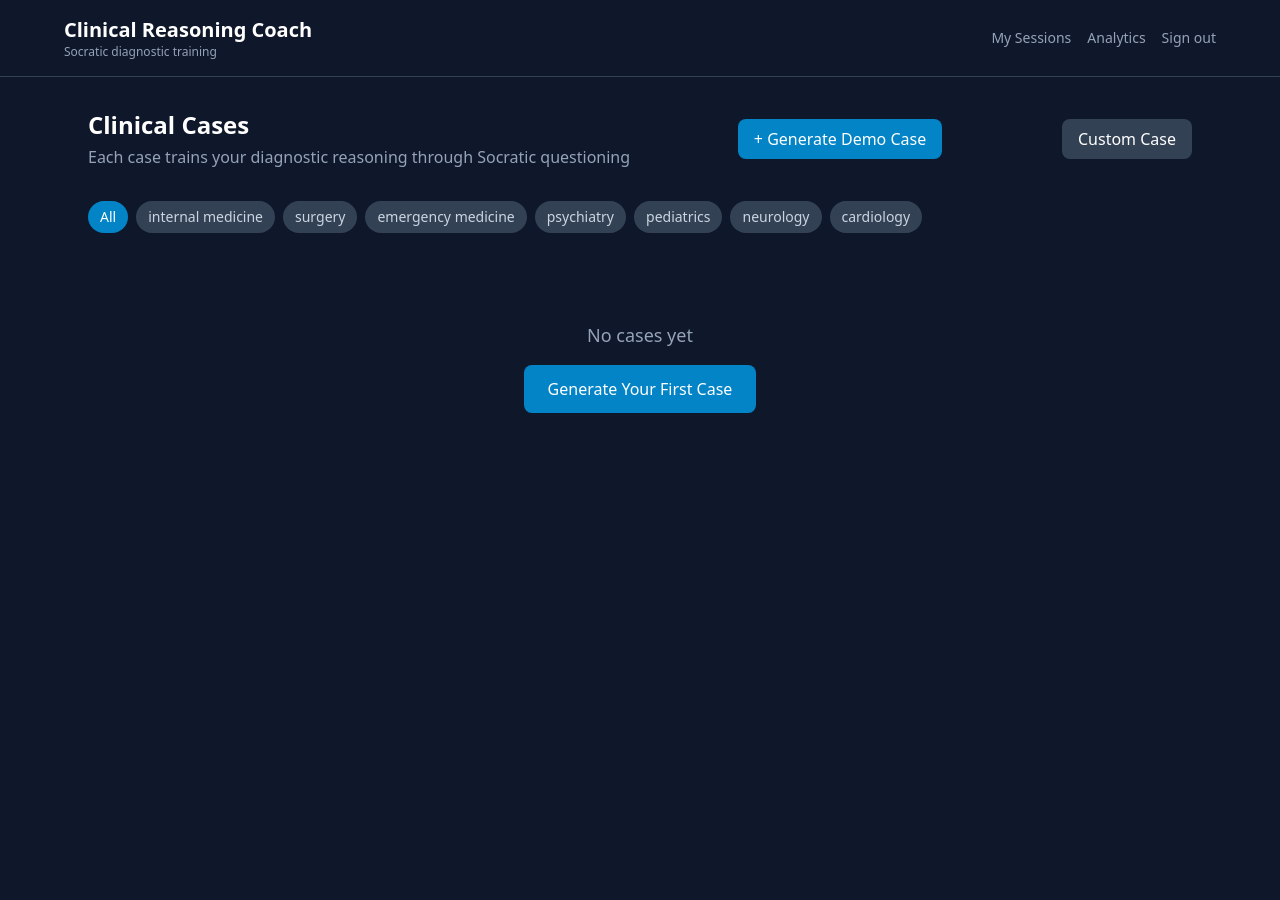
Test: CasesPage › shows structured quality gate feedback when custom generation is blocked
Click the button "Custom Case" at (1127, 139), box [1062,119,1192,159]
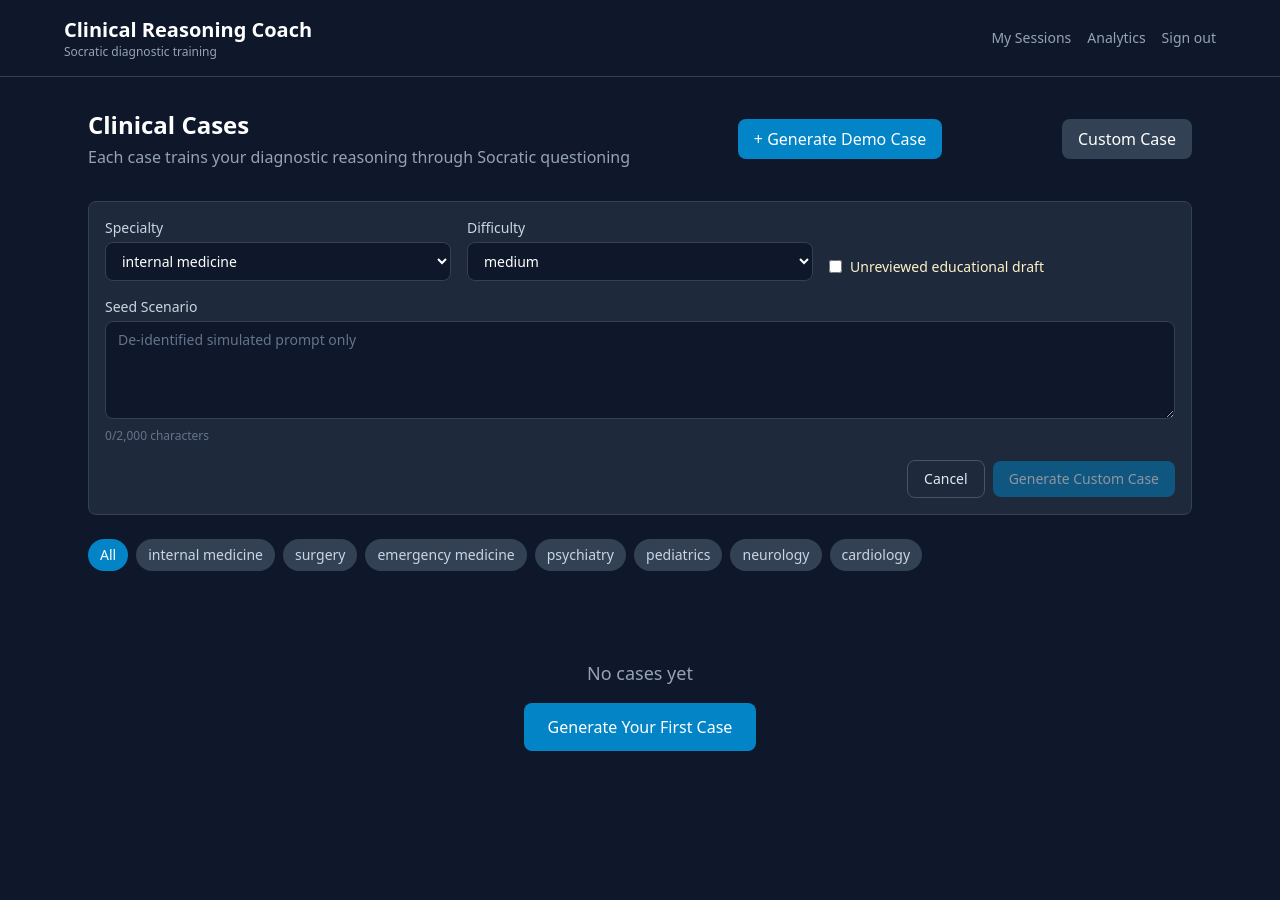
Type "Simulated patient with chest pain." into the text box labelled "Seed Scenario" at (640, 370), box [105,321,1175,419]
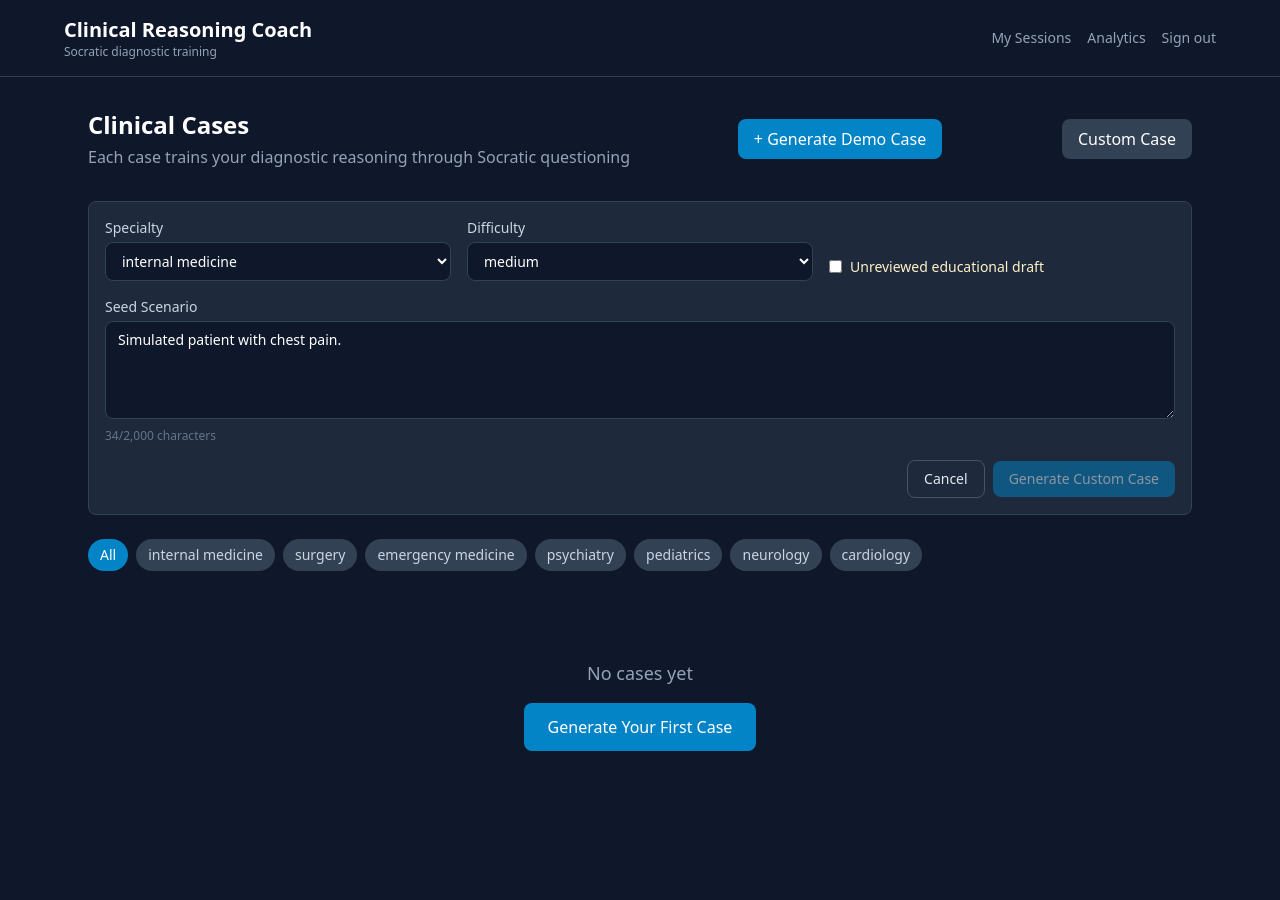
Click the checkbox labelled "Unreviewed educational draft" at (836, 266), box [829,260,842,273]
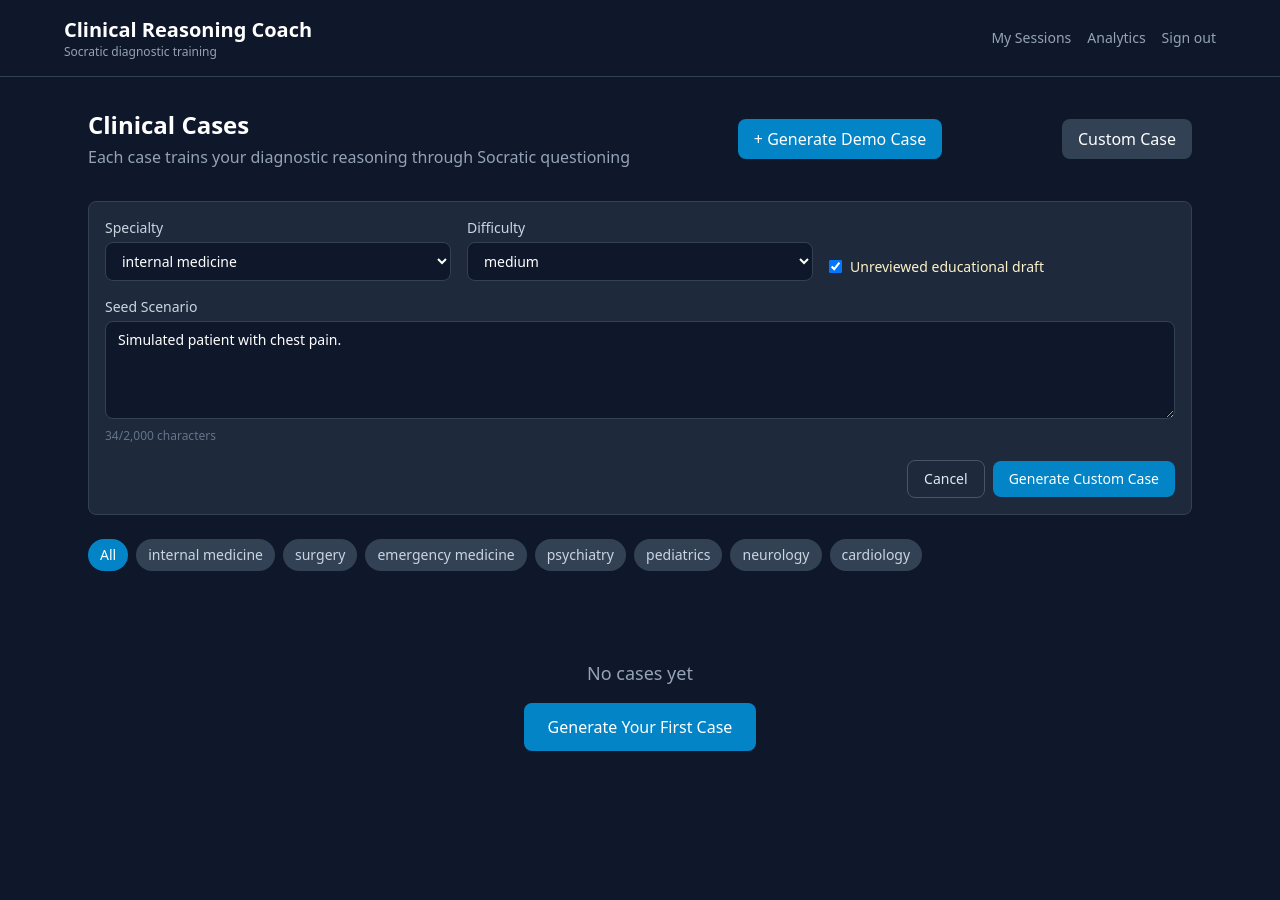
Click the button "Generate Custom Case" at (1084, 479), box [993,461,1175,497]
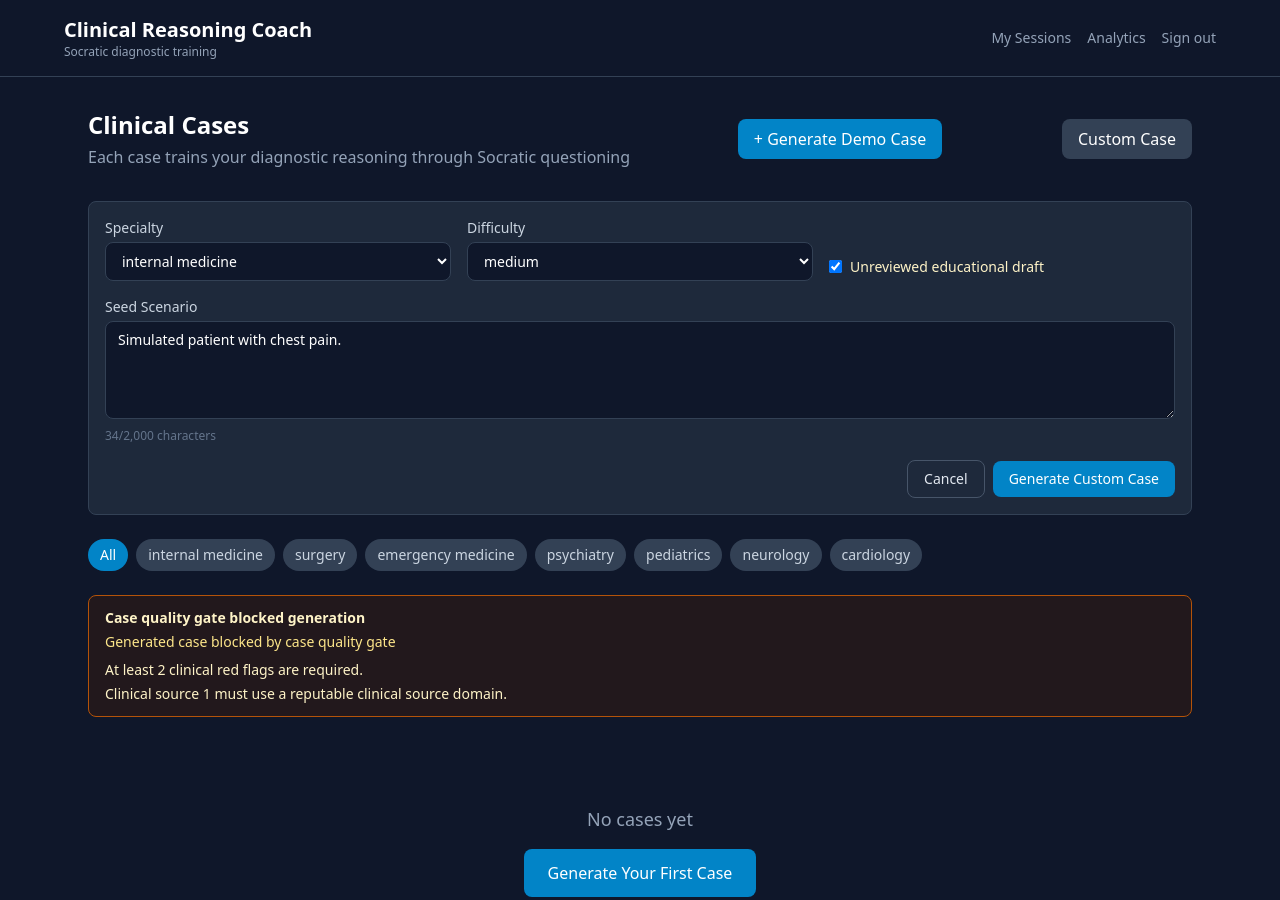
Expected: the text "Case quality gate blocked generation" is shown, [105,608,365,627]
Expected: the text "Generated case blocked by case quality gate" is shown, [105,632,396,651]
Expected: the list item "At least 2 clinical red flags are required." is shown, [105,660,363,679]
